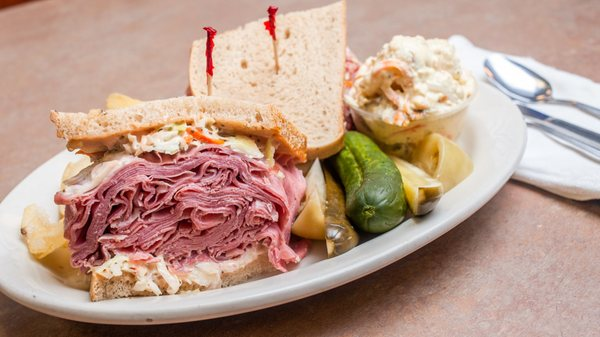burger: (481, 56, 600, 168)
soup: (41, 94, 313, 299), (187, 1, 349, 162)
